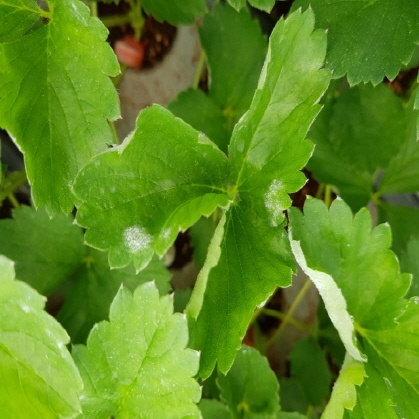Powdery_Leaf: (0, 131, 123, 418), (70, 143, 232, 317), (228, 192, 336, 415), (182, 35, 300, 223), (0, 0, 87, 254), (285, 57, 414, 225)
